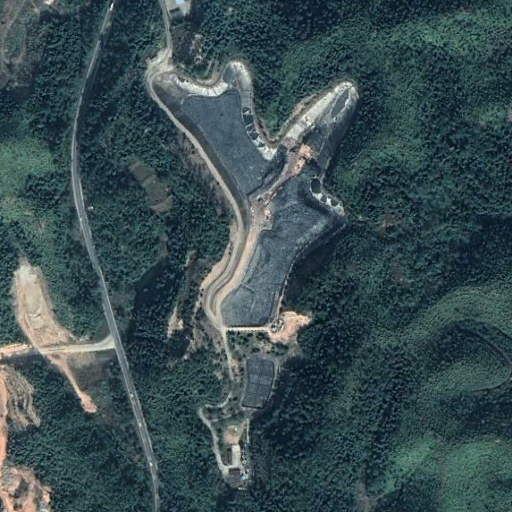lf: (147, 58, 362, 332)
